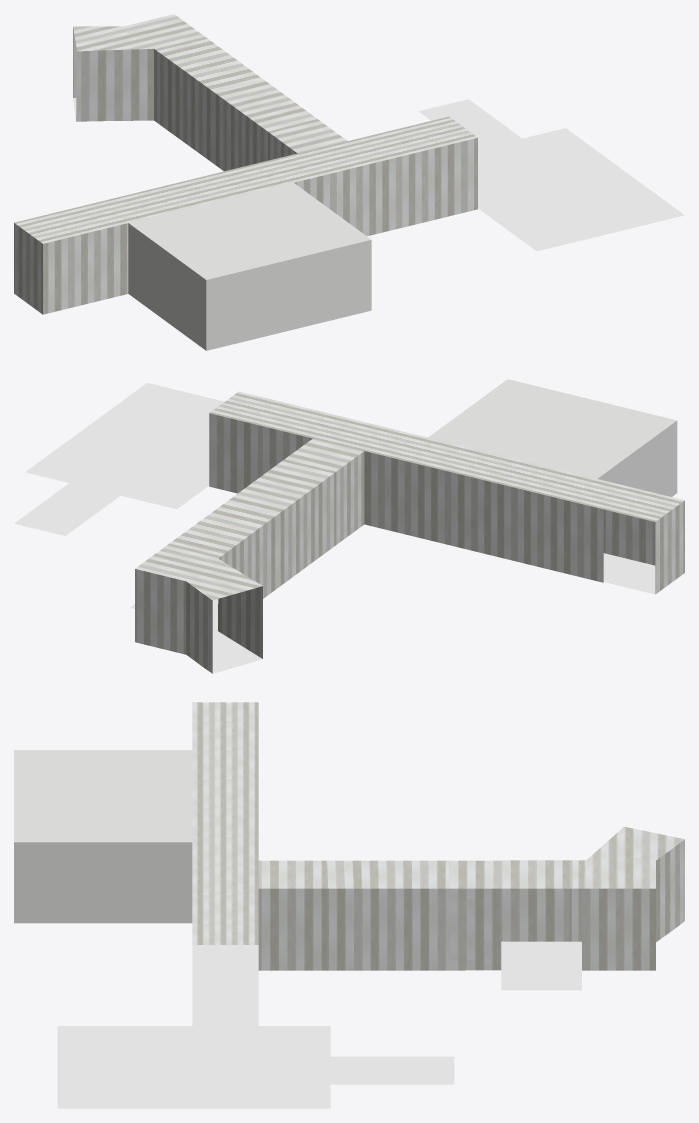
The model's file is floorplan.fbx.
3 views of the same model, one above another, from view 1: azimuth 30°, elevation 25°; view 2: azimuth 150°, elevation 25°; view 3: azimuth 270°, elevation 25° (orthographic). The views are drawn at different scales.
Visible parts, largest first — view 1: Wall__7_.001, OIbamaRoom, ConferenceRoom, Cube__5_.001; view 2: Wall__7_.001, OIbamaRoom, ConferenceRoom, Cube__5_, Cube__5_.001; view 3: Wall__7_.001, OIbamaRoom, ConferenceRoom, Cube__5_, Cube__5_.001.
Boxes of the visible parts, <box> form: Wall__7_.001: <box>14,14,477,314</box>; OIbamaRoom: <box>128,182,371,350</box>; ConferenceRoom: <box>478,128,684,251</box>; Cube__5_.001: <box>419,99,521,149</box>; Wall__7_.001: <box>135,391,684,673</box>; OIbamaRoom: <box>428,379,677,496</box>; ConferenceRoom: <box>25,383,224,509</box>; Cube__5_: <box>130,553,655,673</box>; Cube__5_.001: <box>14,483,120,535</box>; Wall__7_.001: <box>192,702,684,970</box>; OIbamaRoom: <box>14,750,192,923</box>; ConferenceRoom: <box>57,1026,330,1108</box>; Cube__5_: <box>192,941,581,1025</box>; Cube__5_.001: <box>330,1056,454,1084</box>.
Size of the model in its own units: 3207 by 378 by 2793.
